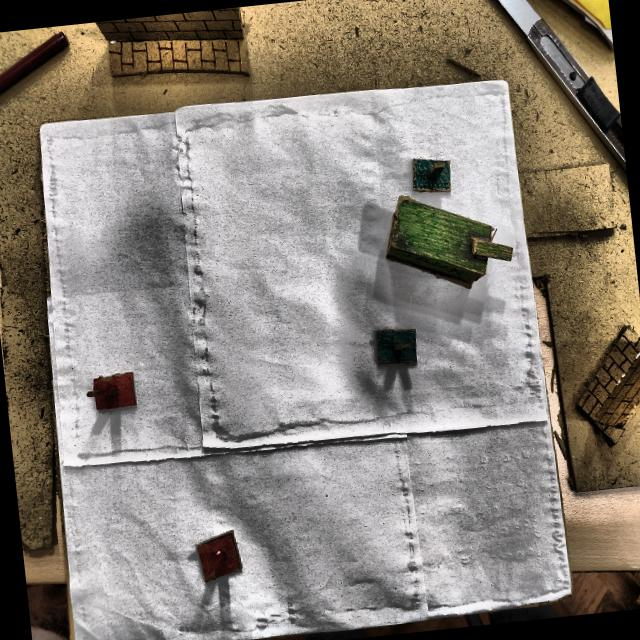Tank: (383, 197, 513, 292)
enemy: (87, 372, 141, 429), (193, 530, 246, 584)
friend: (373, 327, 422, 385), (410, 155, 453, 195)
